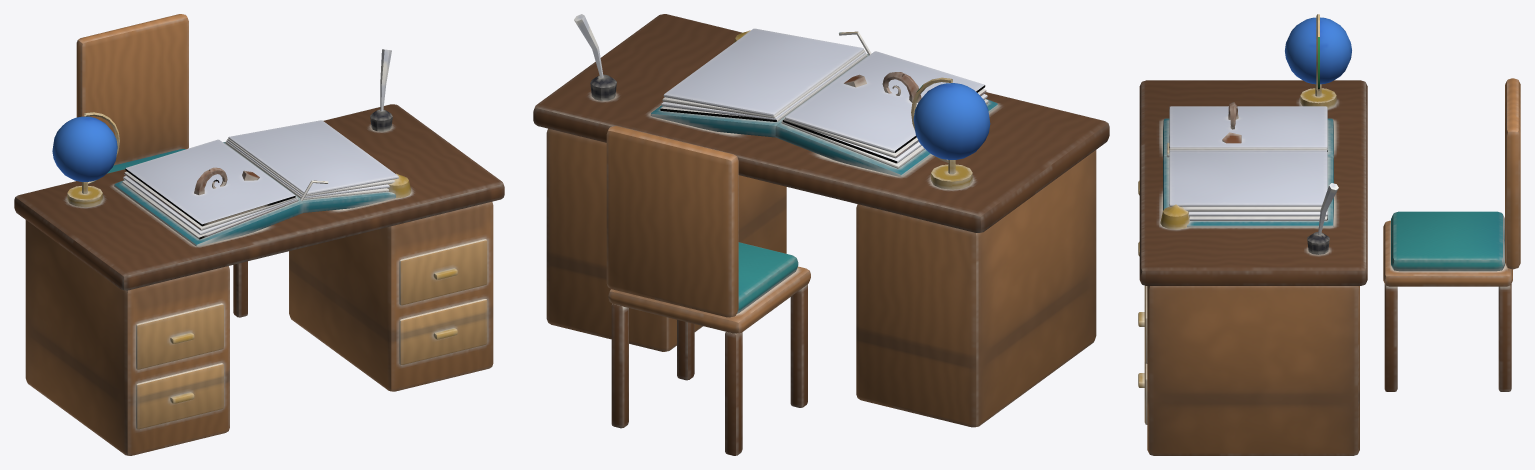
Rendered from curator_desk.glb.
3 views of the same model, side by side, from view 1: azimuth 30°, elevation 25°; view 2: azimuth 150°, elevation 25°; view 3: azimuth 270°, elevation 25° (orthographic). The views are drawn at different scales.
Visible parts, largest first — view 1: SM_CuratorDesk; view 2: SM_CuratorDesk; view 3: SM_CuratorDesk.
Part boxes in pixels (left/top/right/bottom): SM_CuratorDesk: left=14, top=14, right=504, bottom=455; SM_CuratorDesk: left=533, top=14, right=1109, bottom=455; SM_CuratorDesk: left=1138, top=14, right=1520, bottom=455.
Size of what is drawn, in the model's own units: 1.75 by 1.2 by 1.47.
1 material, 1 textured.
